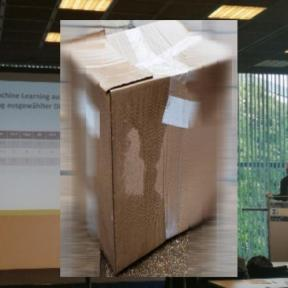box: (58, 17, 240, 282)
